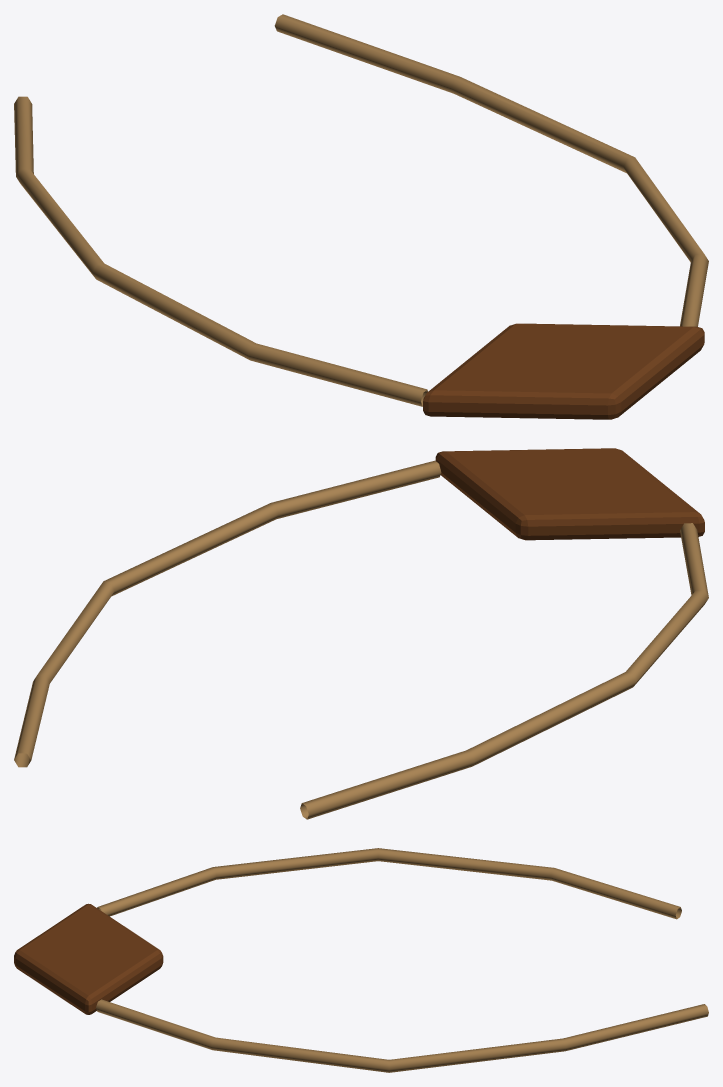
File: sling_LOD1.glb
3 renders of one model, top to bottom at view 1: azimuth 30°, elevation 25°; view 2: azimuth 150°, elevation 25°; view 3: azimuth 270°, elevation 25°, orthographic. The views are drawn at different scales.
Visible parts, largest first — view 1: LOD1_Pouch, LOD1_Release, LOD1_Retention; view 2: LOD1_Pouch, LOD1_Release, LOD1_Retention; view 3: LOD1_Pouch, LOD1_Release, LOD1_Retention.
Part boxes in pixels (bbox=[...]): LOD1_Pouch: bbox=[423, 323, 704, 419]; LOD1_Release: bbox=[274, 14, 708, 326]; LOD1_Retention: bbox=[14, 96, 427, 406]; LOD1_Pouch: bbox=[435, 448, 704, 540]; LOD1_Release: bbox=[14, 460, 441, 767]; LOD1_Retention: bbox=[300, 523, 708, 819]; LOD1_Pouch: bbox=[14, 903, 163, 1014]; LOD1_Release: bbox=[96, 999, 708, 1072]; LOD1_Retention: bbox=[97, 848, 681, 919].
Bounding box in the file's own units: 0.844 × 0.066 × 1.27.
